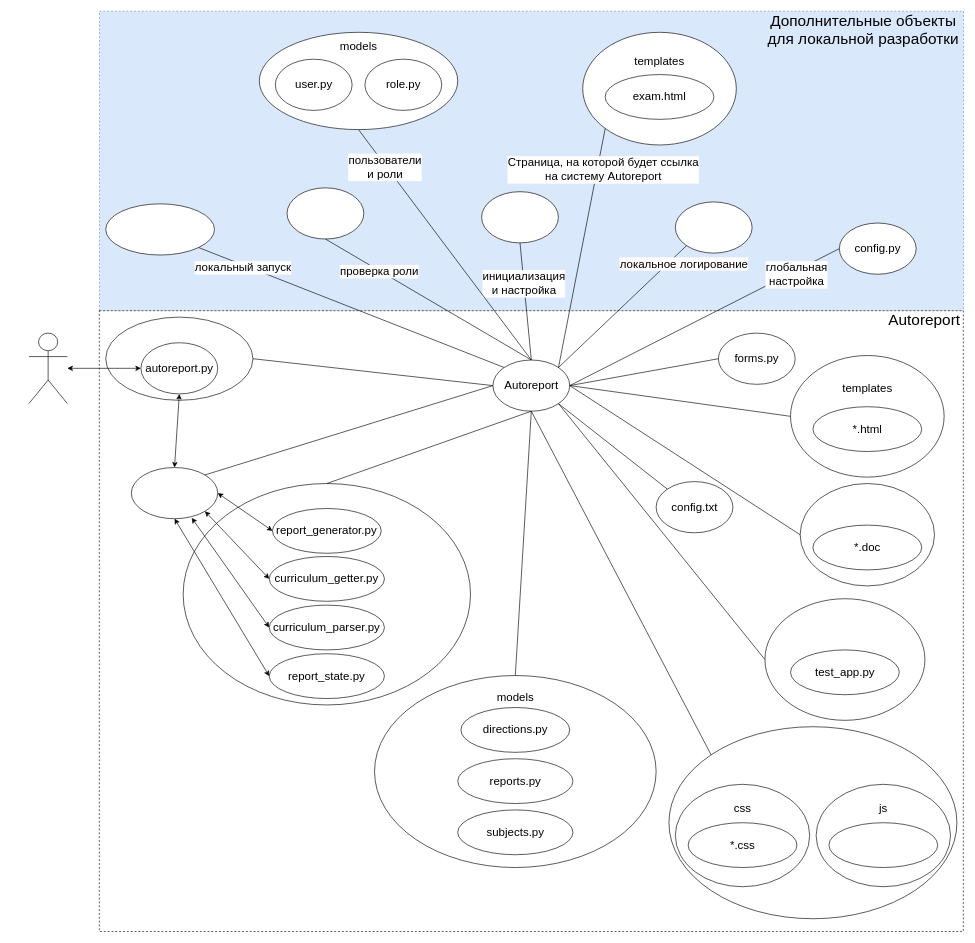
Some shapes in this 975 by 943 pixel diagram are drawn without their labels. The shapes that lost their labels are listed below. From the top down, each one's box as (x1, y1, x2, y2) in pixels, then its label:
(105, 203, 215, 255): runlocalserver.py
(286, 187, 364, 239): utils.py
(481, 191, 558, 243): __init__.py
(675, 201, 752, 253): autoreport.log
(28, 332, 67, 404): Пользователь
(105, 316, 253, 400): controllers
(131, 467, 218, 519): funcs.py
(799, 483, 935, 586): docs
(183, 483, 471, 705): modules
(764, 598, 925, 720): tests
(668, 726, 957, 919): static
(828, 822, 938, 868): *.js
